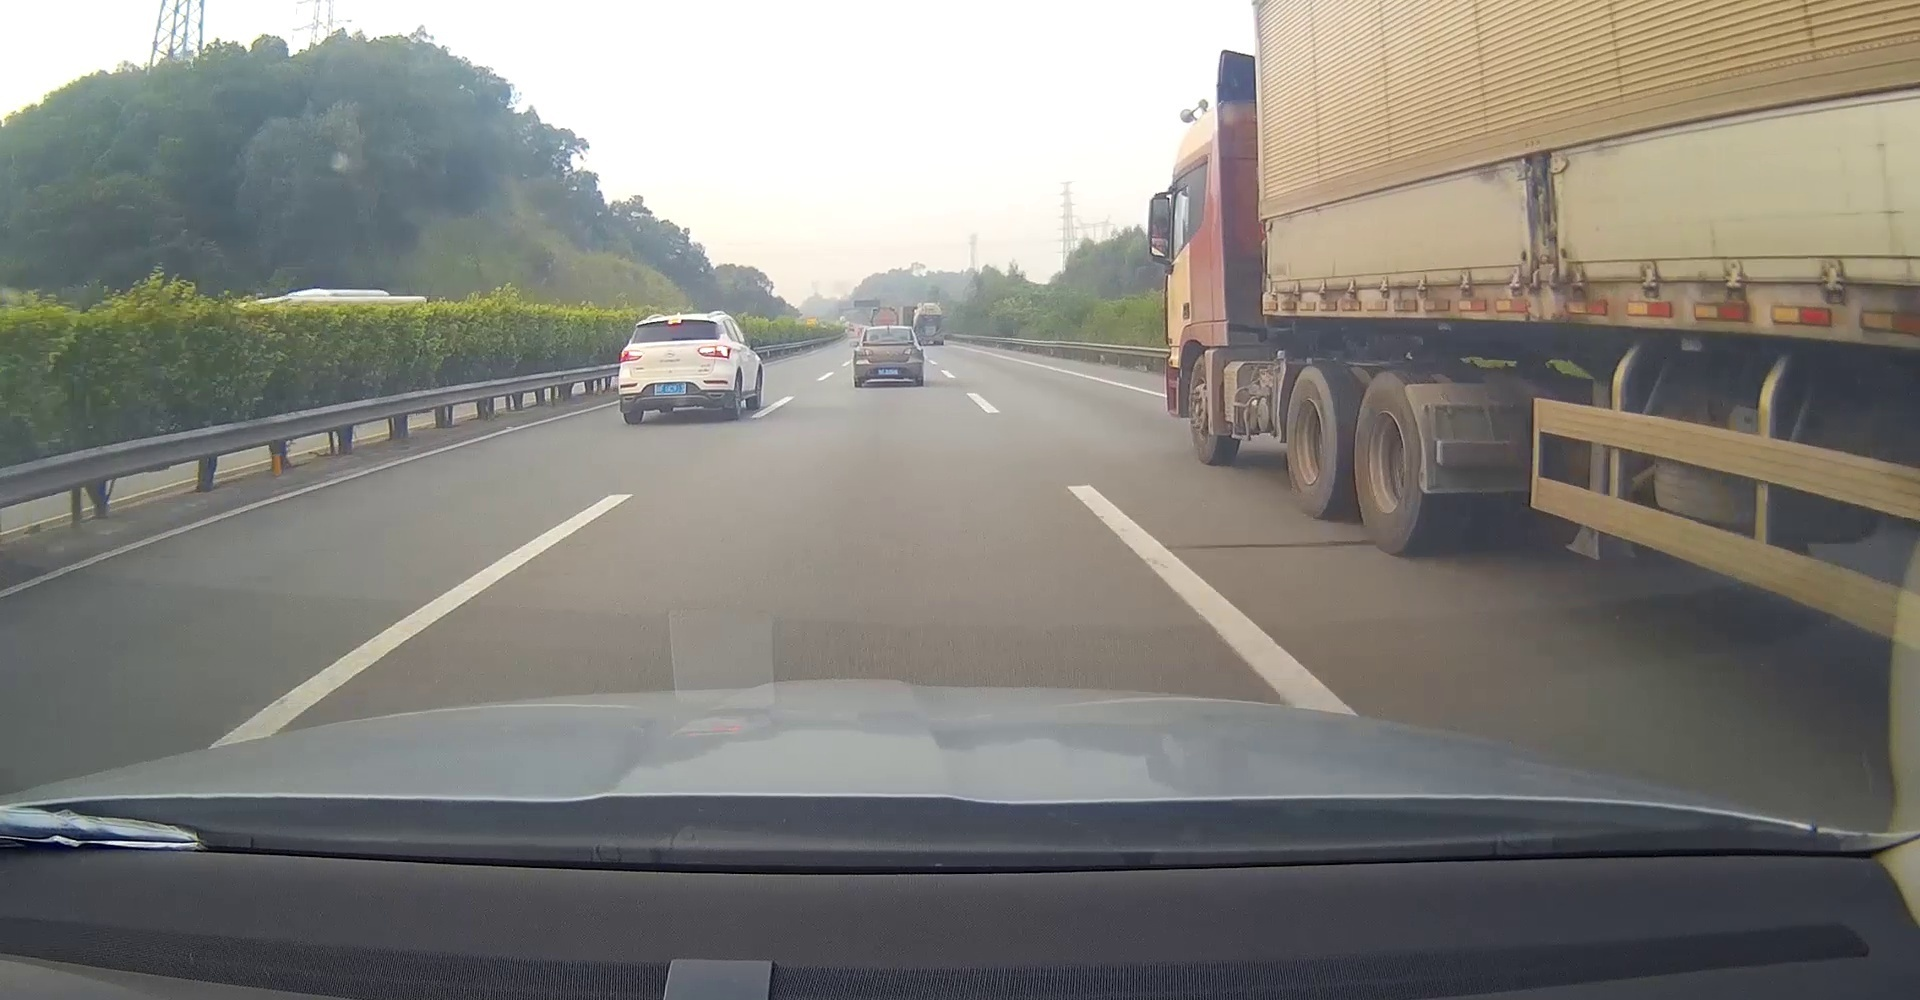L_light: (620, 350, 644, 362), (855, 348, 872, 357)
R_light: (698, 345, 730, 358), (903, 346, 922, 355)
T_light: (668, 319, 682, 325), (884, 327, 893, 331)
day-brake: (618, 313, 734, 424)
day-no: (853, 325, 923, 388)
